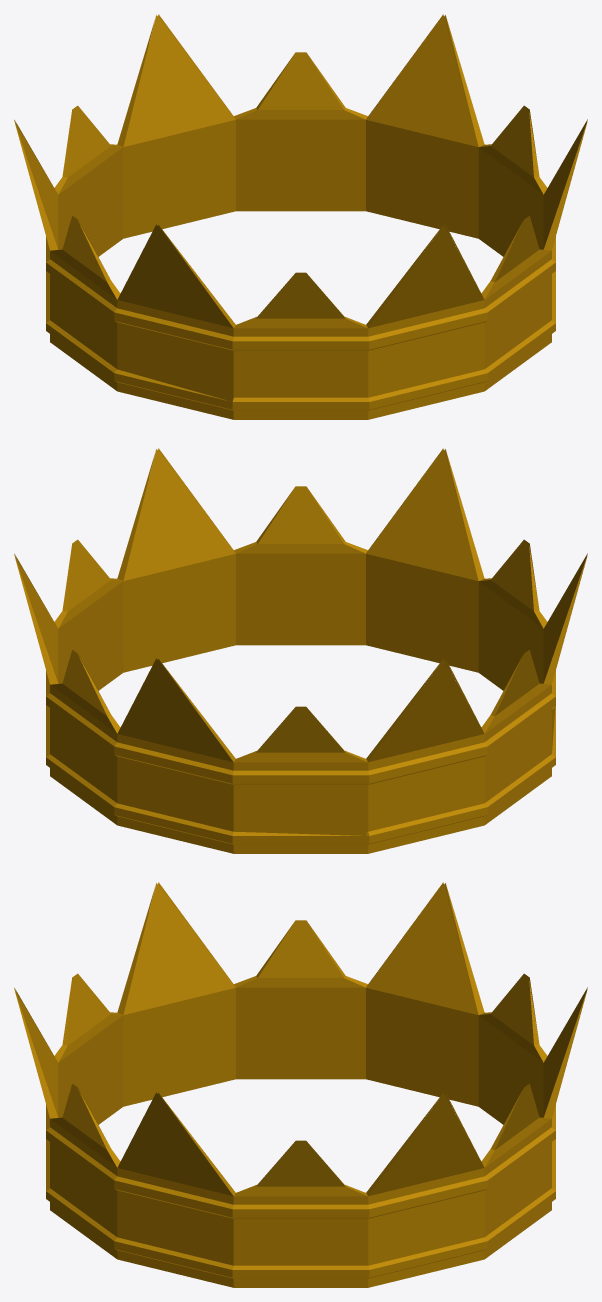
The model's file is Crown.fbx.
3 views of the same model, one above another, from view 1: azimuth 30°, elevation 25°; view 2: azimuth 150°, elevation 25°; view 3: azimuth 270°, elevation 25° (orthographic).
Visible parts, largest first — view 1: node-0; view 2: node-0; view 3: node-0.
Boxes of the visible parts, x1,y1,x2,y2 form: node-0: (14, 14, 587, 419); node-0: (14, 448, 587, 853); node-0: (14, 882, 587, 1287).
Bounding box in the file's own units: 208 × 85.41 × 228.
